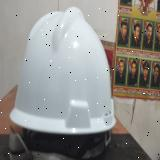Helmet: (10, 6, 116, 134)
